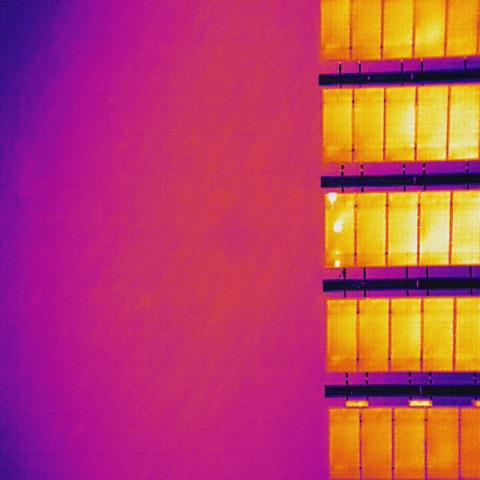fault: (332, 218, 344, 234), (327, 192, 338, 207), (334, 260, 342, 268)
